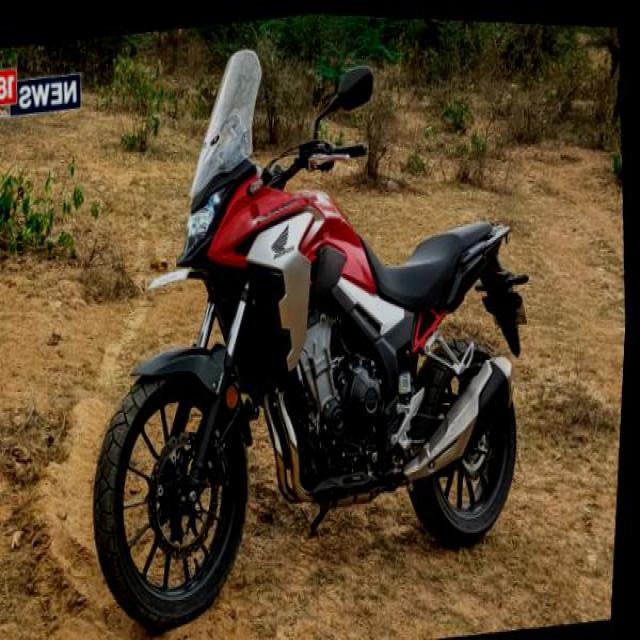CB500X: (60, 1, 561, 638)
